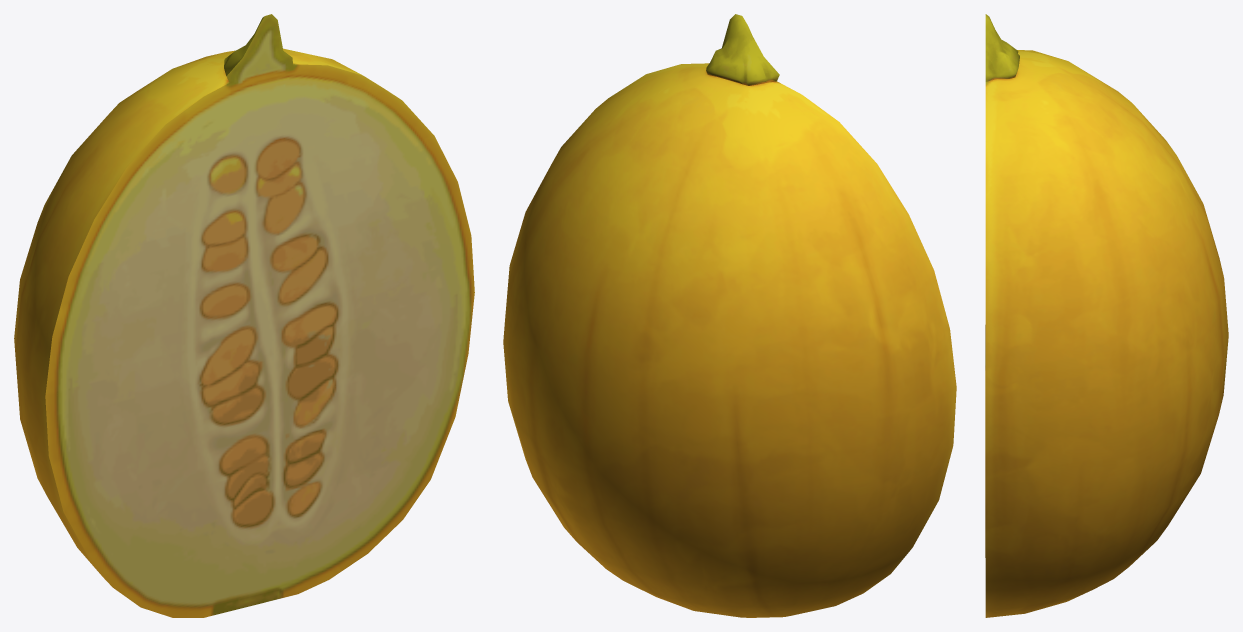
File: SM_HoneydewMelonCutB.fbx
3 renders of one model, left to right at view 1: azimuth 30°, elevation 25°; view 2: azimuth 150°, elevation 25°; view 3: azimuth 270°, elevation 25°, orthographic. The views are drawn at different scales.
Visible parts, largest first — view 1: SM_HoneydewMelonCutB; view 2: SM_HoneydewMelonCutB; view 3: SM_HoneydewMelonCutB.
Part boxes in pixels (<box>): SM_HoneydewMelonCutB: <box>14,14,474,617</box>; SM_HoneydewMelonCutB: <box>503,14,956,617</box>; SM_HoneydewMelonCutB: <box>985,14,1228,617</box>.
Size of the model in its own units: 24.27 by 31.73 by 12.1.
